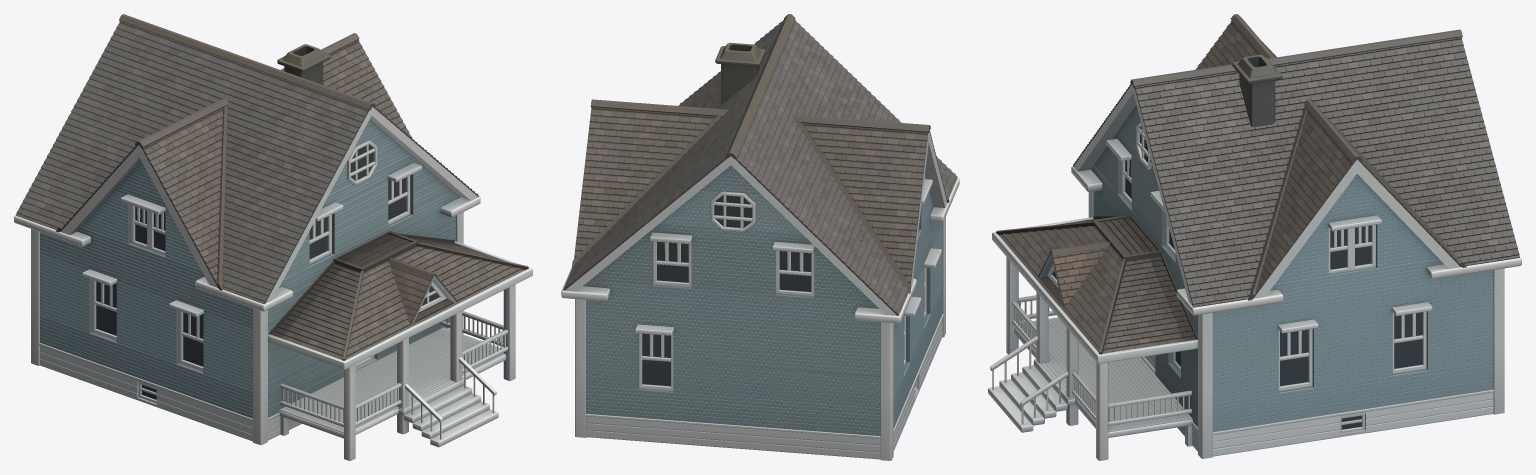
Rendered from home.glb.
The picture shows the model from 3 angles, left to right: view 1: azimuth 30°, elevation 25°; view 2: azimuth 150°, elevation 25°; view 3: azimuth 270°, elevation 25°; orthographic projection. The views are drawn at different scales.
Visible parts, largest first — view 1: node_id30; view 2: node_id30; view 3: node_id30.
Part boxes in pixels (x1=…): node_id30: x1=14, y1=14, x2=532, y2=460; node_id30: x1=561, y1=14, x2=959, y2=460; node_id30: x1=988, y1=14, x2=1521, y2=460.
Size of the model in its own units: 0.6602 by 0.512 by 0.7573.
Materials: 1 (1 with a texture image).
